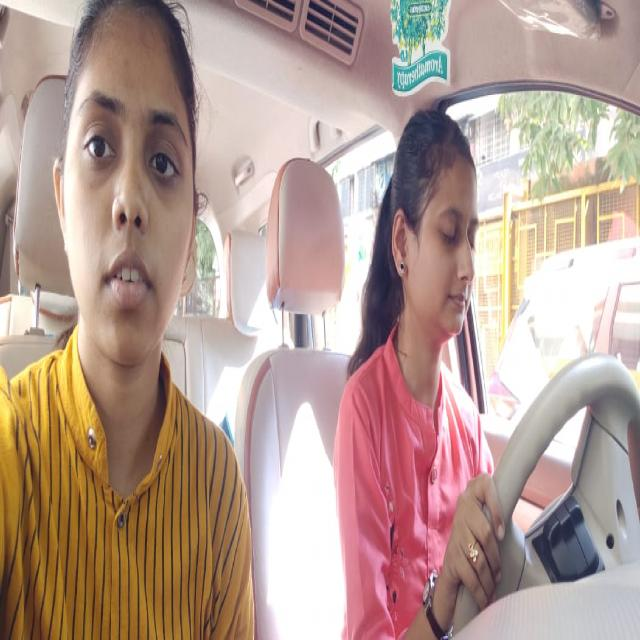drowsy: (383, 97, 478, 356)
person: (50, 0, 212, 376)
